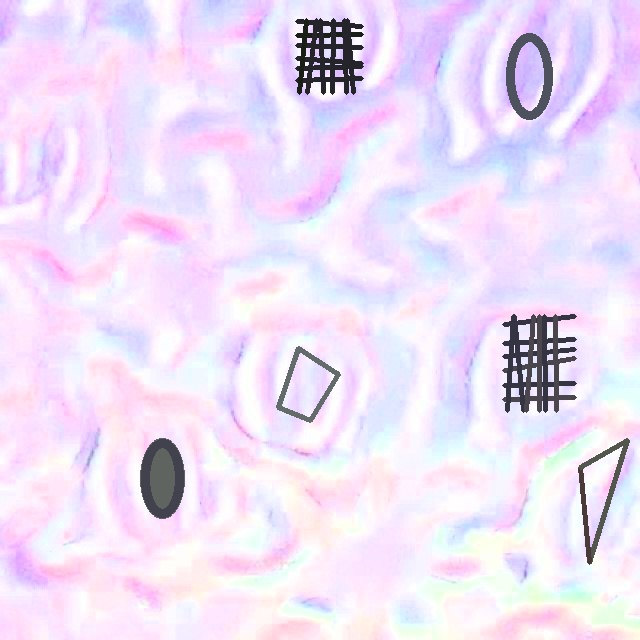close: (502, 314, 575, 412), (295, 18, 363, 94)
open: (578, 439, 628, 564), (276, 346, 340, 422), (505, 31, 553, 120), (140, 438, 183, 518)
